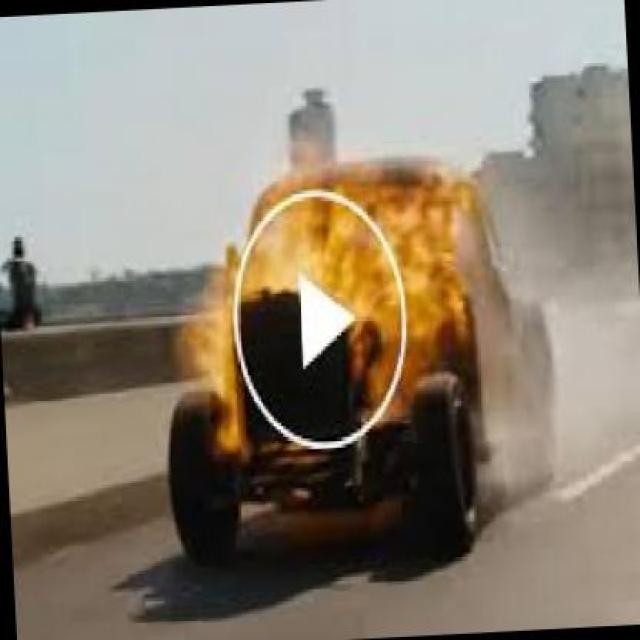Fire: (174, 162, 458, 436)
Smoke: (474, 235, 640, 534)
